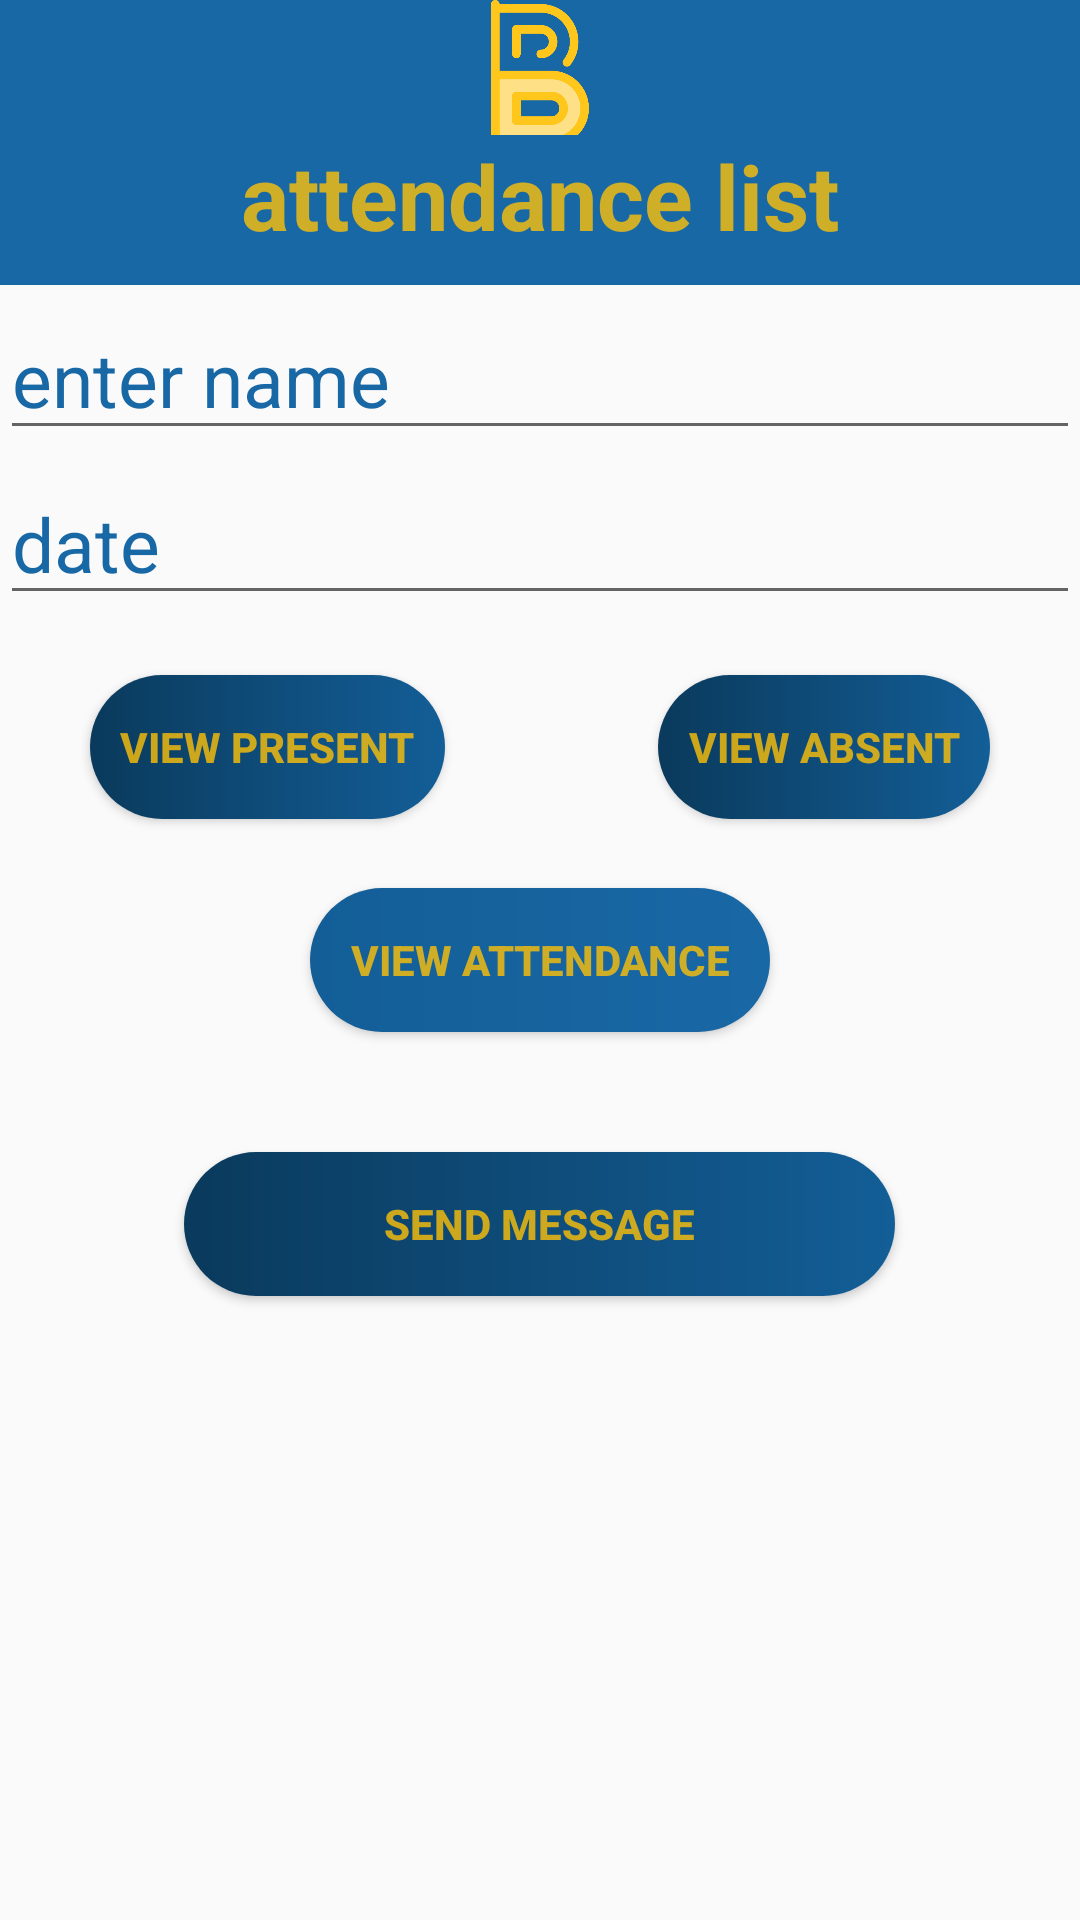

Where icons sit on this 1080px x 1920px app screen, as (x1, y1, x2, y2):
letterb: (491, 0, 589, 135)
